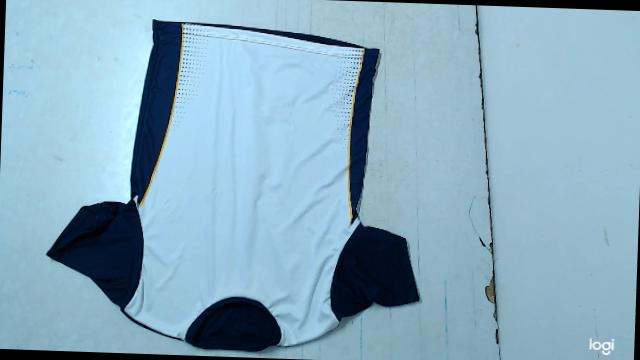new-garment: (47, 21, 419, 351)
